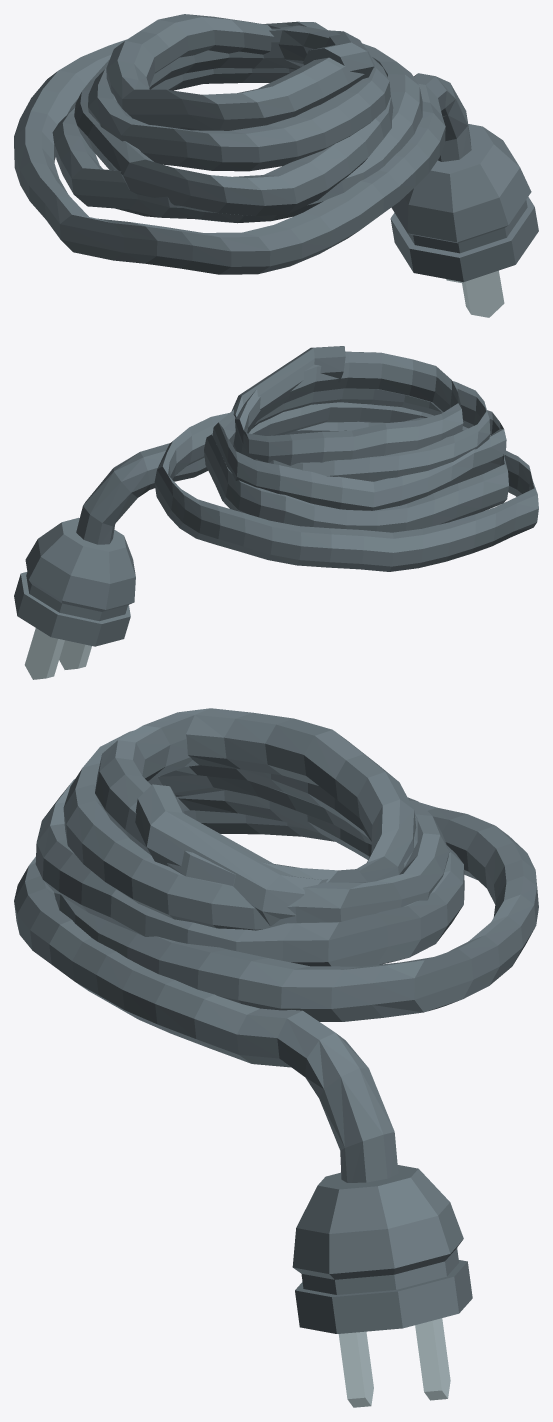
File: plug.glb
3 renders of one model, top to bottom at view 1: azimuth 30°, elevation 25°; view 2: azimuth 150°, elevation 25°; view 3: azimuth 270°, elevation 25°, orthographic. The views are drawn at different scales.
Visible parts, largest first — view 1: plug; view 2: plug; view 3: plug.
Boxes of the visible parts, left/top/right/bottom form: plug: left=14, top=14, right=538, bottom=317; plug: left=14, top=346, right=538, bottom=679; plug: left=14, top=708, right=538, bottom=1407.
Bounding box in the file's own units: 0.3756 × 0.2556 × 0.2555.
